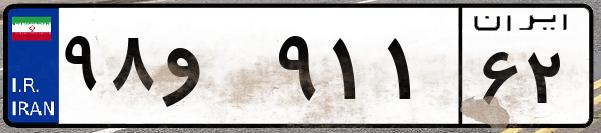1: (385, 28, 445, 110), (330, 28, 385, 110)
2: (525, 38, 570, 115)
6: (475, 38, 525, 113)
8: (110, 28, 158, 98)
9: (270, 28, 330, 110), (57, 26, 110, 100)
و: (158, 20, 270, 120)
